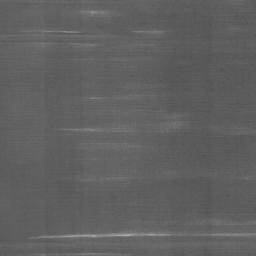Waist folding: (0, 217, 256, 256), (17, 28, 165, 62), (0, 0, 122, 18), (59, 126, 186, 134), (73, 93, 140, 101), (80, 176, 135, 184), (230, 126, 256, 137), (242, 174, 256, 181)
